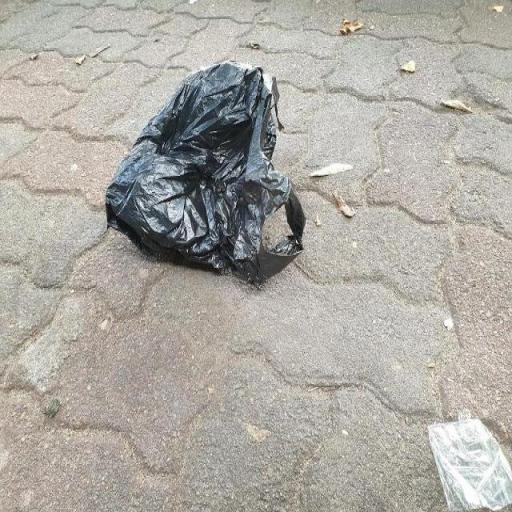plastic-bag: (104, 59, 310, 290), (424, 410, 510, 512)
